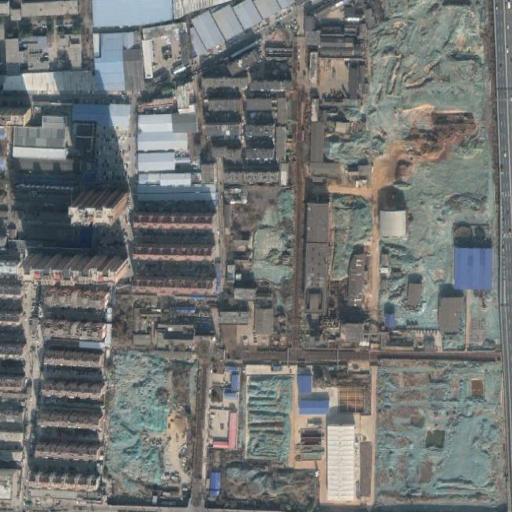cw: (314, 5, 512, 342), (375, 357, 512, 512), (207, 376, 322, 512), (103, 353, 196, 505), (250, 189, 297, 288)
